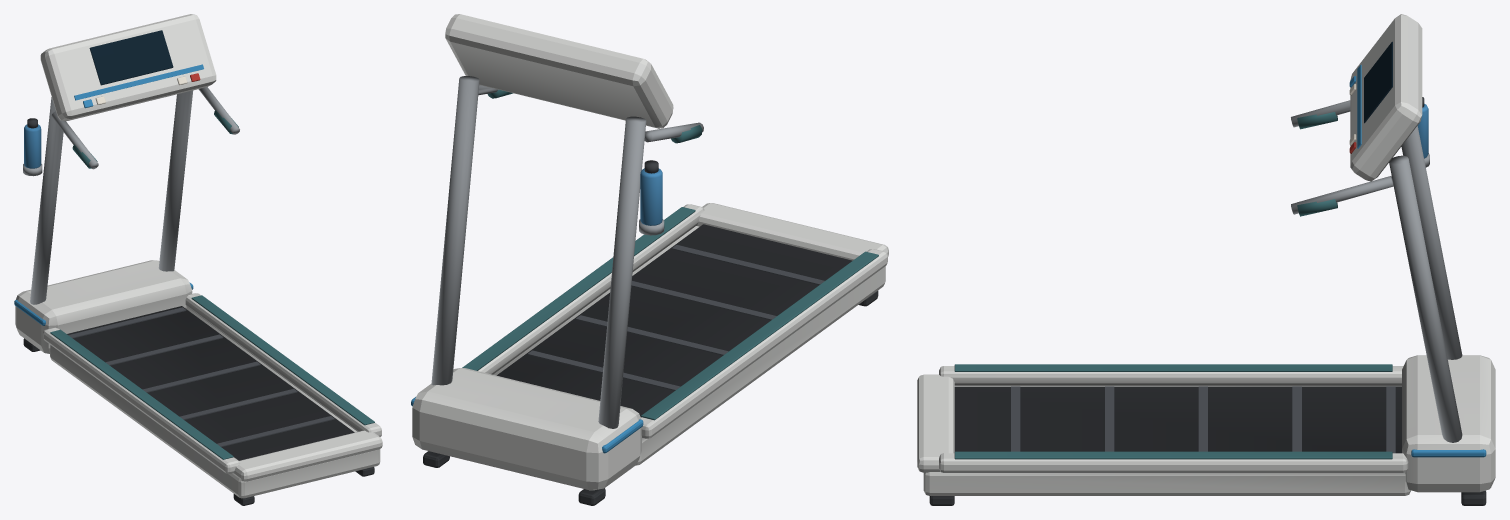
File: treadmill.glb
3 views of the same model, side by side, from view 1: azimuth 30°, elevation 25°; view 2: azimuth 150°, elevation 25°; view 3: azimuth 270°, elevation 25° (orthographic). The views are drawn at different scales.
Visible parts, largest first — view 1: body, slats; view 2: body, slats; view 3: body, slats.
Part boxes in pixels (x1=…): body: x1=14, y1=14, x2=382, y2=505; slats: x1=68, y1=307, x2=334, y2=446; body: x1=411, y1=14, x2=888, y2=505; slats: x1=527, y1=245, x2=824, y2=390; body: x1=917, y1=14, x2=1495, y2=505; slats: x1=1011, y1=386, x2=1395, y2=453.
Size of the model in its own units: 0.794 by 1.44 by 1.85.
